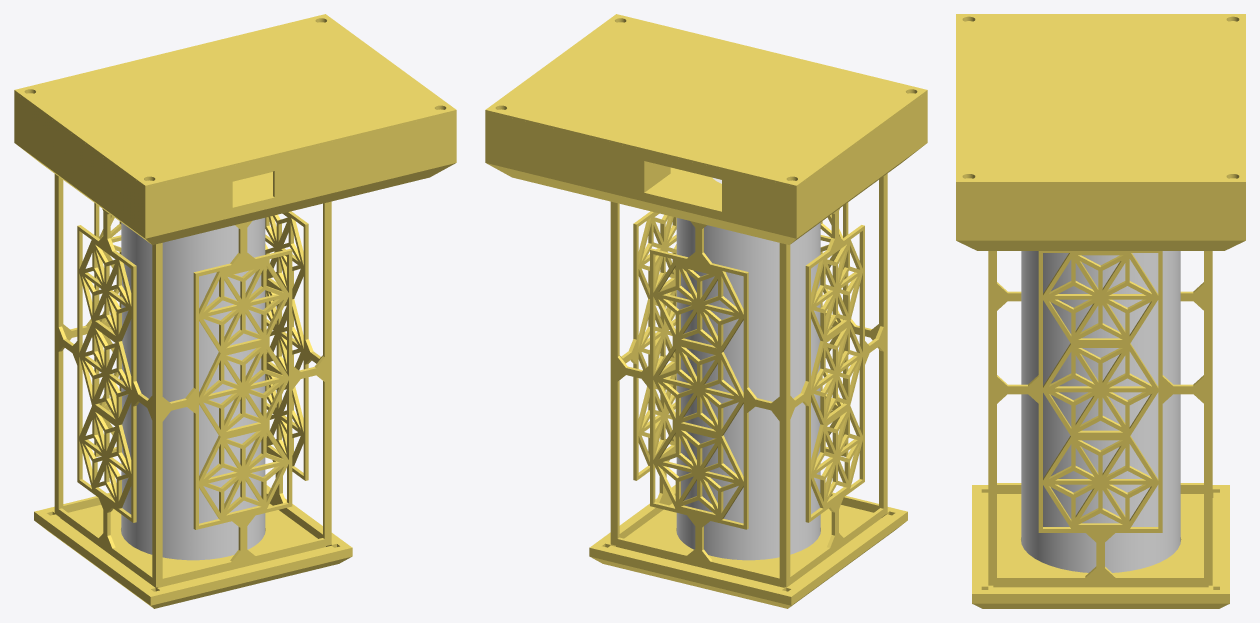
File: lamp.glb
The picture shows the model from 3 angles, left to right: view 1: azimuth 30°, elevation 25°; view 2: azimuth 150°, elevation 25°; view 3: azimuth 270°, elevation 25°; orthographic projection. The views are drawn at different scales.
Visible parts, largest first — view 1: lamp kumiko-1, lamp bottom-1, led inner tube-1, lamp base-1, lamp lid-1; view 2: lamp kumiko-1, lamp bottom-1, led inner tube-1, lamp base-1, lamp lid-1; view 3: lamp bottom-1, led inner tube-1, lamp kumiko-1, lamp base-1, lamp lid-1.
Part boxes in pixels (<box>): lamp kumiko-1: <box>54,174,331,587</box>; lamp bottom-1: <box>14,14,456,187</box>; led inner tube-1: <box>121,218,265,560</box>; lamp base-1: <box>14,92,456,244</box>; lamp lid-1: <box>34,485,352,608</box>; lamp kumiko-1: <box>610,173,887,586</box>; lamp bottom-1: <box>485,14,927,187</box>; led inner tube-1: <box>676,177,820,560</box>; lamp base-1: <box>485,92,927,244</box>; lamp lid-1: <box>589,485,907,608</box>; lamp bottom-1: <box>956,14,1245,183</box>; led inner tube-1: <box>1021,251,1180,572</box>; lamp kumiko-1: <box>988,251,1212,585</box>; lamp base-1: <box>956,184,1245,250</box>; lamp lid-1: <box>972,485,1229,608</box>.
Bounding box in the file's own units: 0.1844 × 0.2475 × 0.1344.
